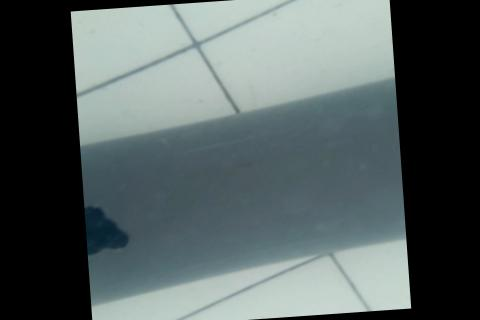kebocoran: (82, 200, 133, 257)
